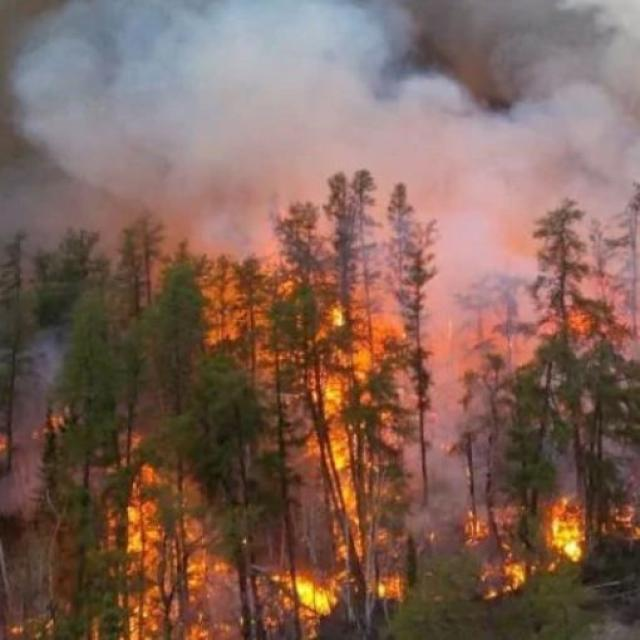Fire: (0, 224, 640, 640)
Smoke: (0, 0, 631, 371)
